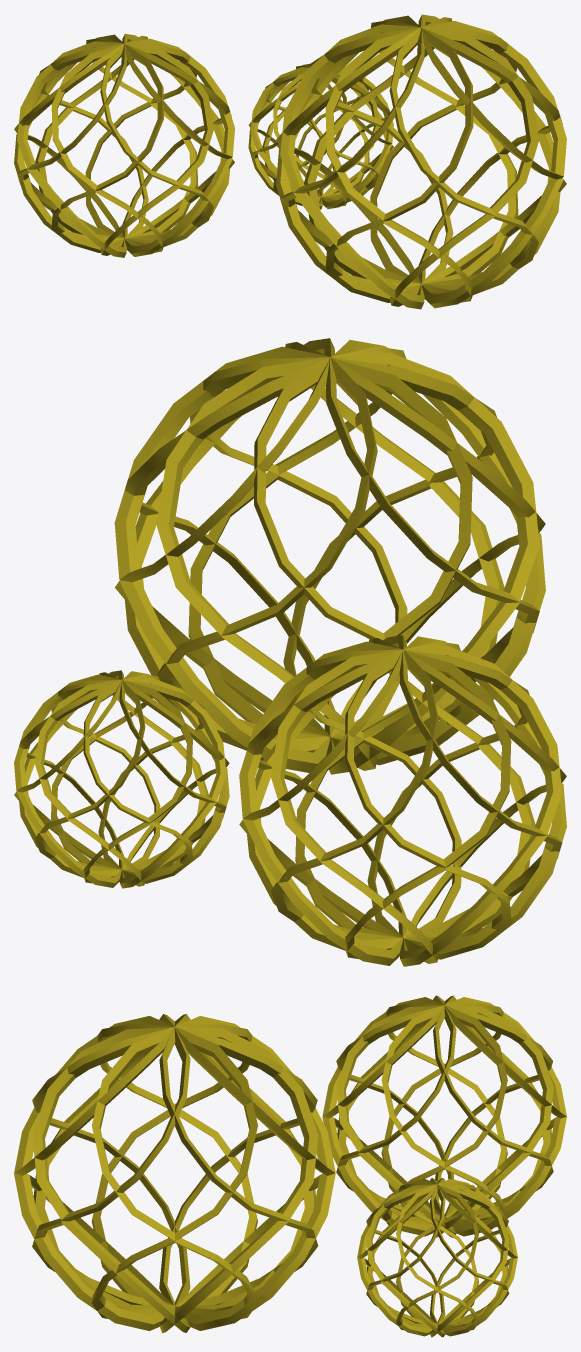
The model's file is OficeDecors_Gold_0.obj.
3 views of the same model, one above another, from view 1: azimuth 30°, elevation 25°; view 2: azimuth 150°, elevation 25°; view 3: azimuth 270°, elevation 25° (orthographic). The views are drawn at different scales.
Parts seen in each view (by area): view 1: OficeDecors_Gold_0; view 2: OficeDecors_Gold_0; view 3: OficeDecors_Gold_0.
Boxes of the visible parts, bbox=[...] form: OficeDecors_Gold_0: bbox=[14, 14, 566, 309]; OficeDecors_Gold_0: bbox=[14, 338, 566, 966]; OficeDecors_Gold_0: bbox=[14, 995, 566, 1337].
Size of the model in its own units: 0.3557 by 0.23 by 0.3928.
